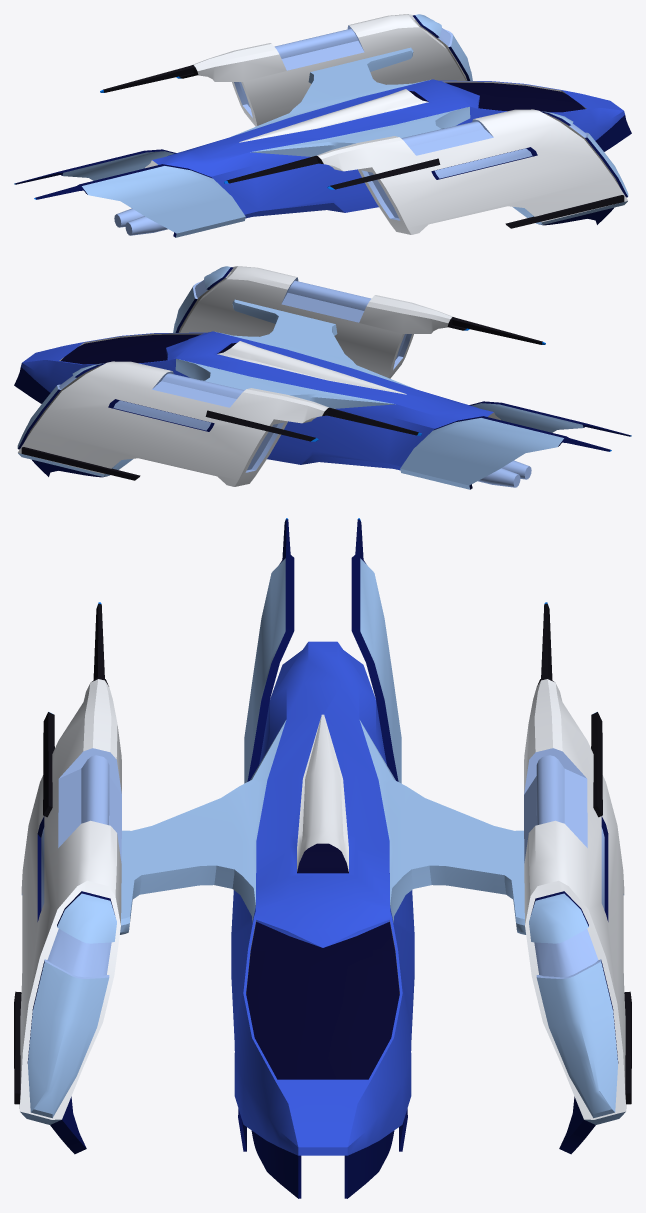
Rendered from spaceship_1.fbx.
3 views of the same model, one above another, from view 1: azimuth 30°, elevation 25°; view 2: azimuth 150°, elevation 25°; view 3: azimuth 270°, elevation 25° (orthographic). The views are drawn at different scales.
Visible parts, largest first — view 1: oxotnik; view 2: oxotnik; view 3: oxotnik.
Part boxes in pixels (box(x1,y1,x2,y2)): oxotnik: box(14, 14, 631, 237); oxotnik: box(14, 266, 631, 489); oxotnik: box(14, 518, 631, 1198).
Size of the model in its own units: 1885 by 399 by 931.
